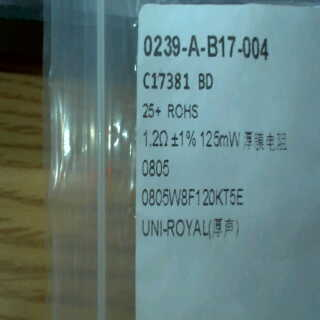1.2R: (140, 127, 170, 179)
